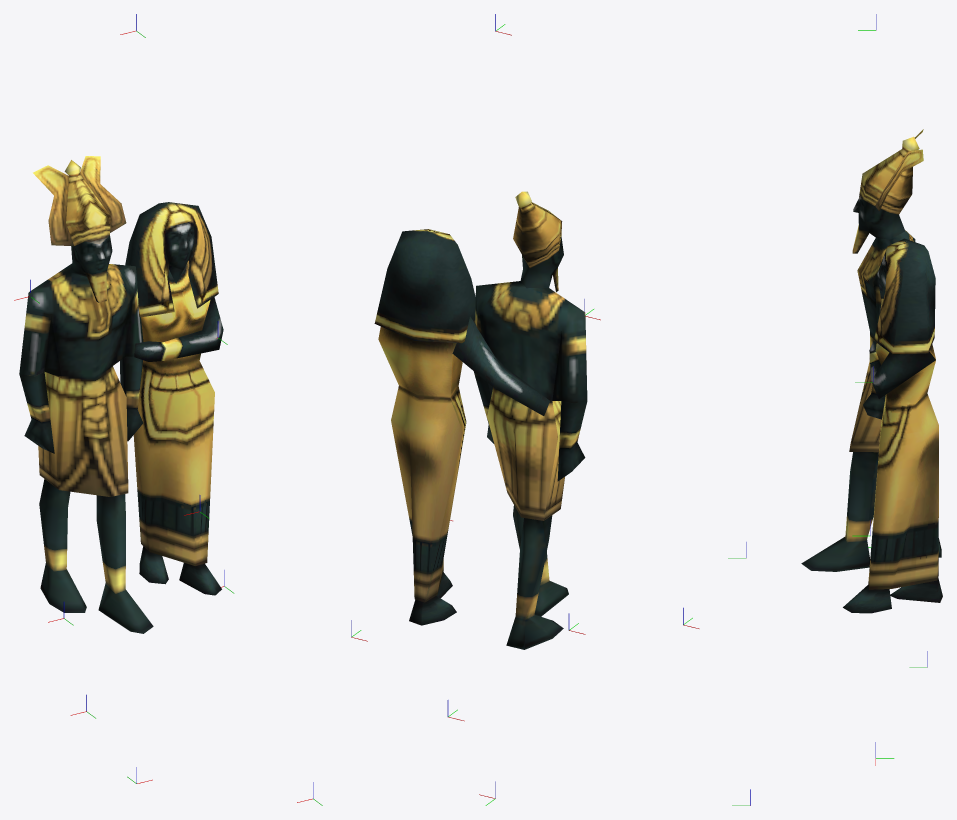
Rendered from egyptian-monument-to-pharaohs.glb.
The picture shows the model from 3 angles, left to right: view 1: azimuth 30°, elevation 25°; view 2: azimuth 150°, elevation 25°; view 3: azimuth 270°, elevation 25°; orthographic projection. The views are drawn at different scales.
Parts seen in each view (by area): view 1: building e monument4Model; view 2: building e monument4Model; view 3: building e monument4Model.
Boxes of the visible parts, left/top/right/bottom form: building e monument4Model: left=19, top=156, right=223, bottom=633; building e monument4Model: left=374, top=191, right=587, bottom=649; building e monument4Model: left=801, top=129, right=942, bottom=613.
Size of the model in its own units: 3.81 by 11.31 by 2.96.
Materials: 3 (2 with a texture image).
